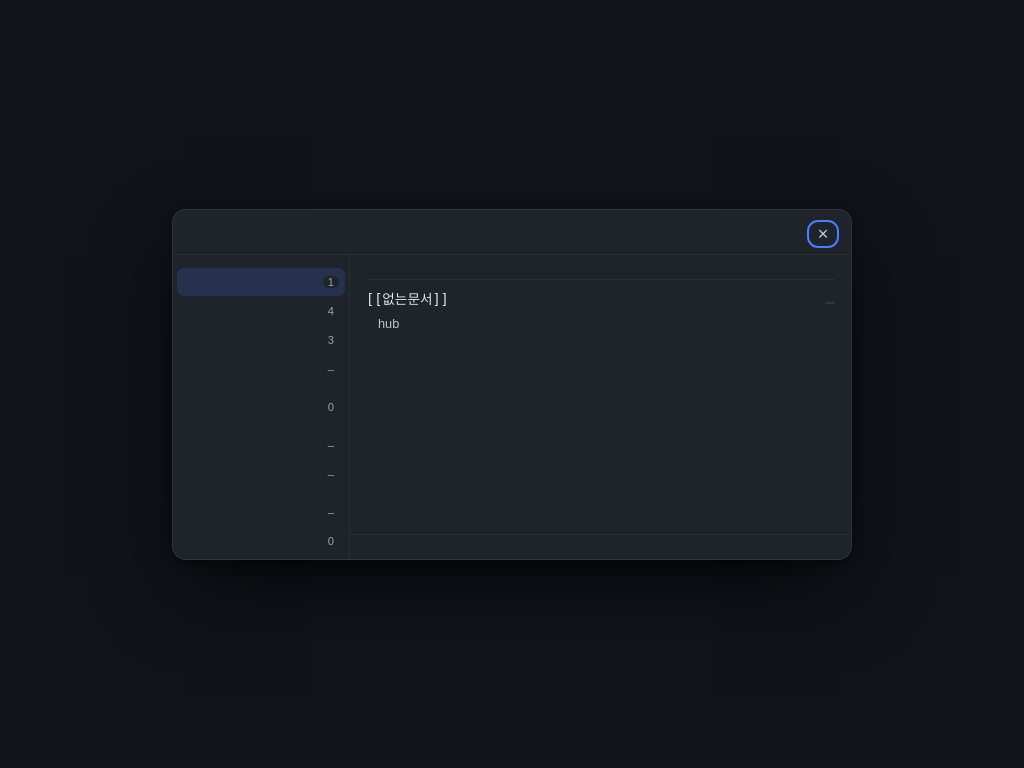
Test: 고아 탭 › 경로는 title 속성으로 남는다 — 목록에는 이름만 그린다
The width and height of the screenshot is (1024, 768).
Click the tab "4" at (261,310), box [177,296,345,324]
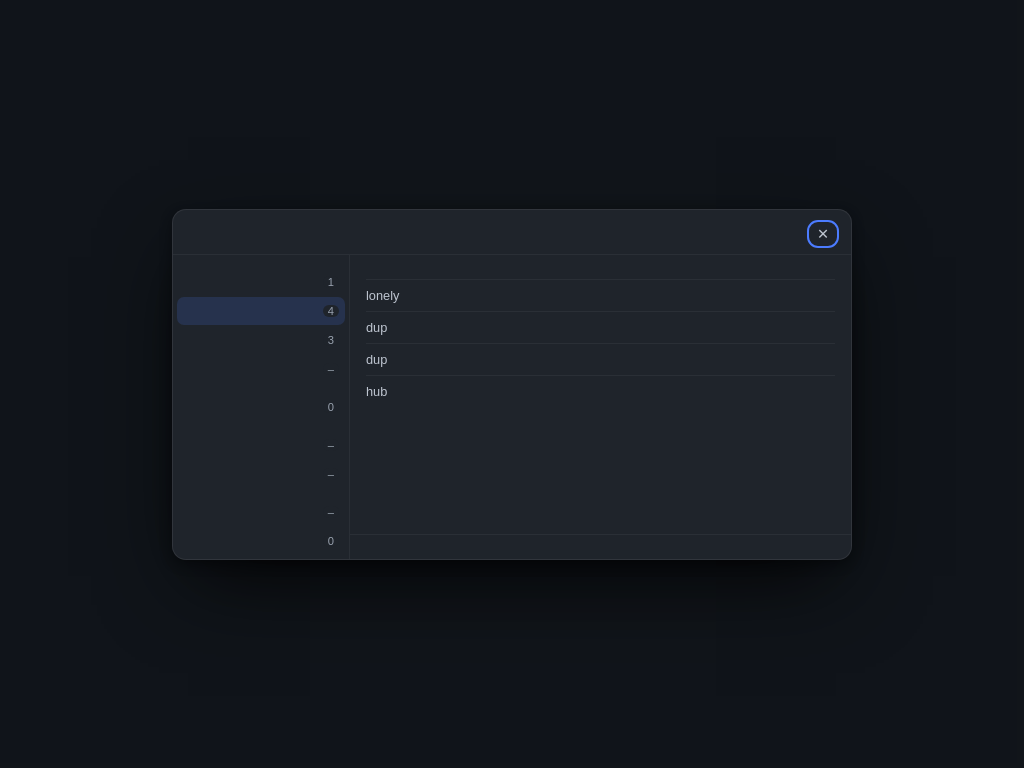
Now the button with class "src" reads "lonely", box [366,286,399,304]
